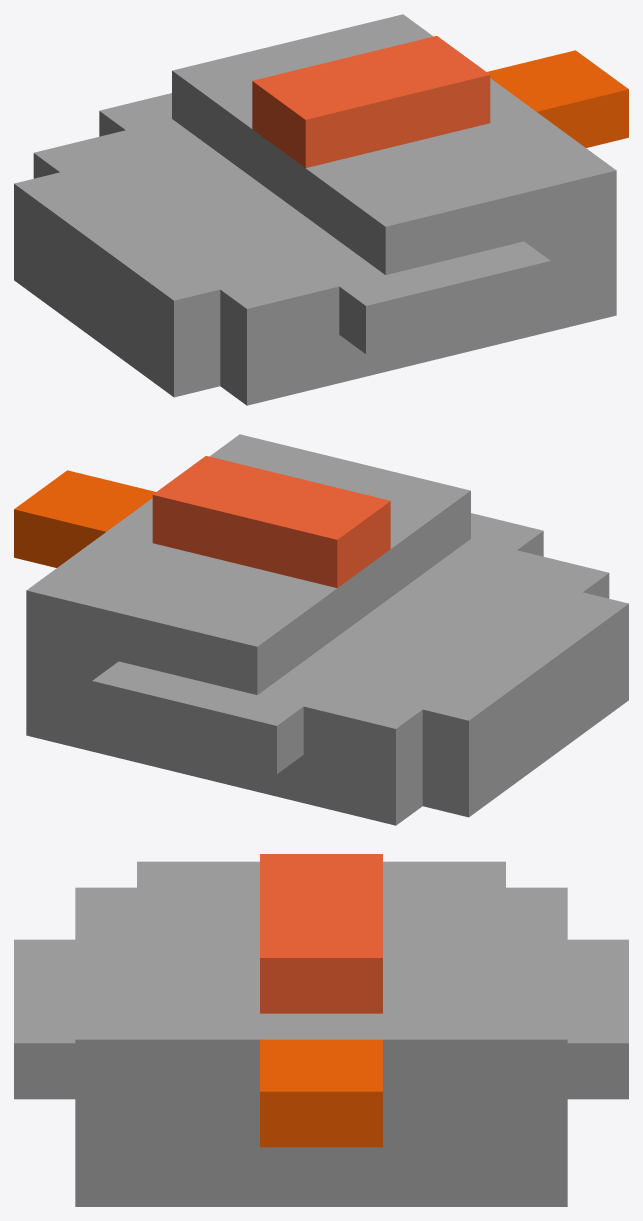
Rendered from flatchick.obj.
3 renders of one model, top to bottom at view 1: azimuth 30°, elevation 25°; view 2: azimuth 150°, elevation 25°; view 3: azimuth 270°, elevation 25°, orthographic. The views are drawn at different scales.
Parts seen in each view (by area): view 1: flatchick; view 2: flatchick; view 3: flatchick.
Part boxes in pixels (bbox=[...]): flatchick: bbox=[14, 14, 628, 405]; flatchick: bbox=[14, 434, 628, 825]; flatchick: bbox=[14, 854, 628, 1206].
Bounding box in the file's own units: 11 × 4 × 10.
Materials: 1 (1 with a texture image).
